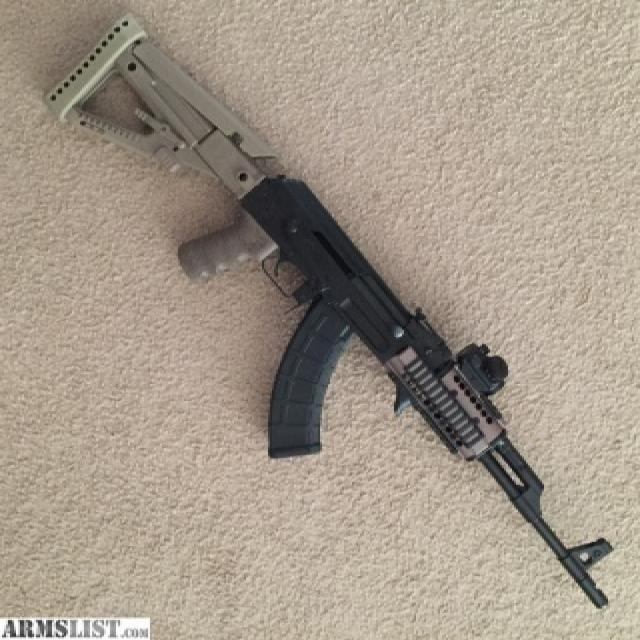weapon: (28, 0, 614, 612)
